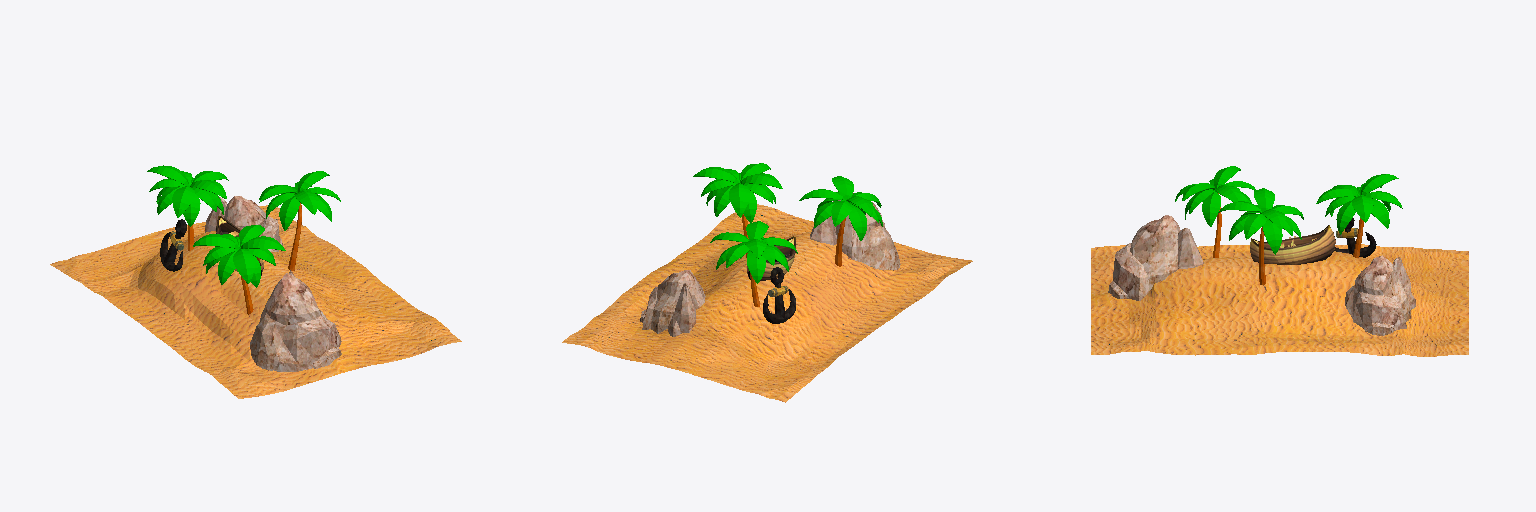
The picture shows the model from 3 angles: view 1: azimuth 30°, elevation 25°; view 2: azimuth 150°, elevation 25°; view 3: azimuth 270°, elevation 25°; orthographic projection.
Parts seen in each view (by area): view 1: group1 pPlane1, group1 farm_item_03ModelRootLocatorfarm_item_03FBXASC047farm_ite, group1 Mesh2, group1 Mesh, group1 Mesh3, polygon0 group1; view 2: group1 pPlane1, group1 farm_item_03ModelRootLocatorfarm_item_03FBXASC047farm_ite, group1 Mesh3, group1 Mesh2, group1 Mesh, polygon0 group1; view 3: group1 pPlane1, group1 farm_item_03ModelRootLocatorfarm_item_03FBXASC047farm_ite, group1 Mesh3, group1 Mesh, group1 Mesh2, group1 n461, polygon0 group1.
Boxes of the visible parts, box(x1,y1,x2,y2) form: group1 pPlane1: box(50, 205, 461, 398); group1 farm_item_03ModelRootLocatorfarm_item_03FBXASC047farm_ite: box(205, 196, 341, 371); group1 Mesh2: box(193, 225, 285, 314); group1 Mesh: box(147, 165, 228, 250); group1 Mesh3: box(259, 171, 340, 270); polygon0 group1: box(160, 219, 186, 271); group1 pPlane1: box(562, 204, 972, 402); group1 farm_item_03ModelRootLocatorfarm_item_03FBXASC047farm_ite: box(640, 193, 900, 336); group1 Mesh3: box(693, 163, 782, 257); group1 Mesh2: box(799, 176, 882, 266); group1 Mesh: box(710, 221, 797, 306); polygon0 group1: box(763, 267, 795, 323); group1 pPlane1: box(1091, 244, 1468, 356); group1 farm_item_03ModelRootLocatorfarm_item_03FBXASC047farm_ite: box(1108, 215, 1415, 335); group1 Mesh3: box(1218, 188, 1303, 284); group1 Mesh: box(1316, 174, 1402, 257); group1 Mesh2: box(1175, 166, 1255, 257); group1 n461: box(1250, 225, 1335, 264); polygon0 group1: box(1334, 218, 1376, 257).
Bounding box in the file's own units: 16.61 × 10.12 × 24.23.
Materials: 1 (1 with a texture image).